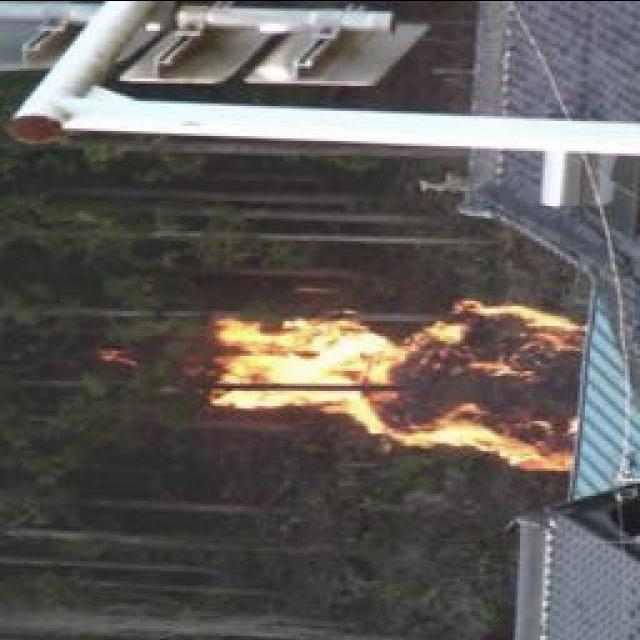Fire: (202, 285, 588, 471)
